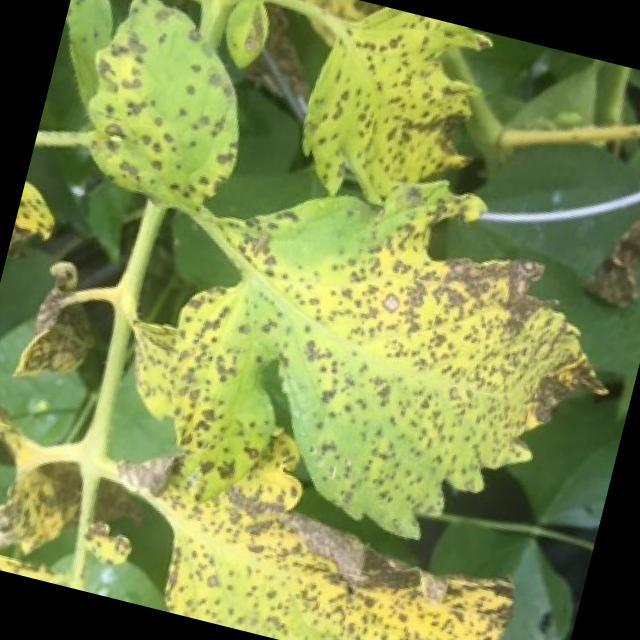Tomato leaf bacterial spot: (184, 143, 640, 586), (86, 455, 539, 640), (281, 1, 533, 248), (55, 1, 285, 246), (102, 254, 315, 507)
